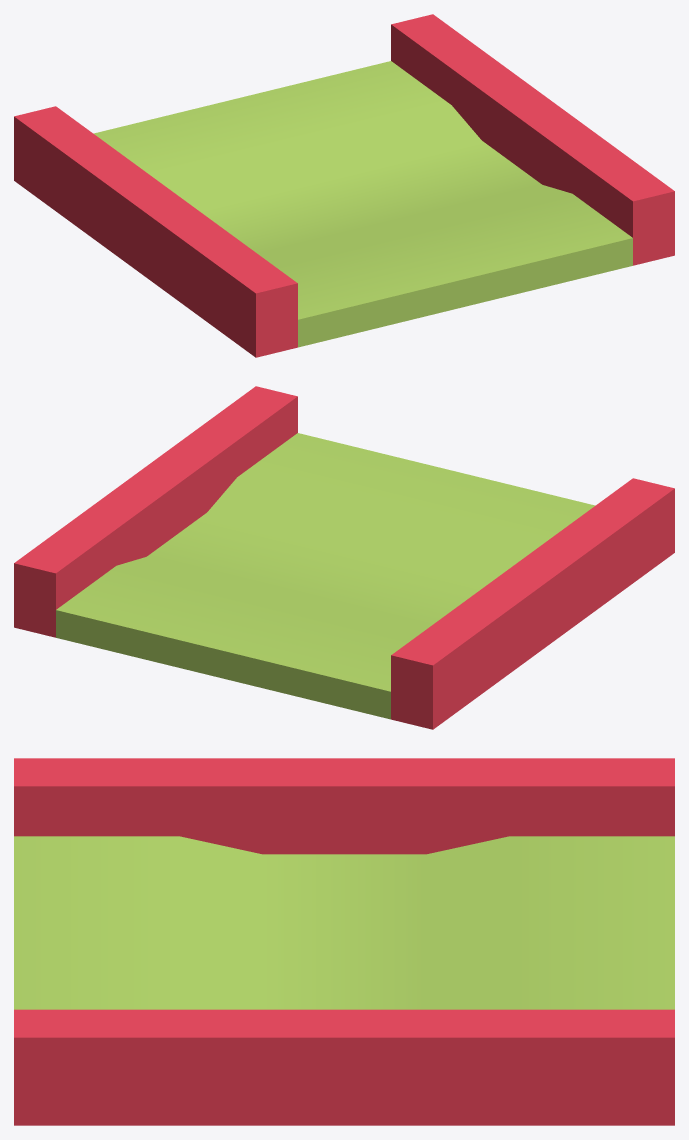
The model's file is crest.fbx.
The picture shows the model from 3 angles, top to bottom: view 1: azimuth 30°, elevation 25°; view 2: azimuth 150°, elevation 25°; view 3: azimuth 270°, elevation 25°; orthographic projection. The views are drawn at different scales.
Visible parts, largest first — view 1: crest; view 2: crest; view 3: crest.
Boxes of the visible parts, box(x1,y1,x2,y2) form: crest: box(14, 14, 674, 357); crest: box(14, 386, 674, 729); crest: box(14, 758, 674, 1125).
Size of the model in its own units: 10 by 1.47 by 10.
